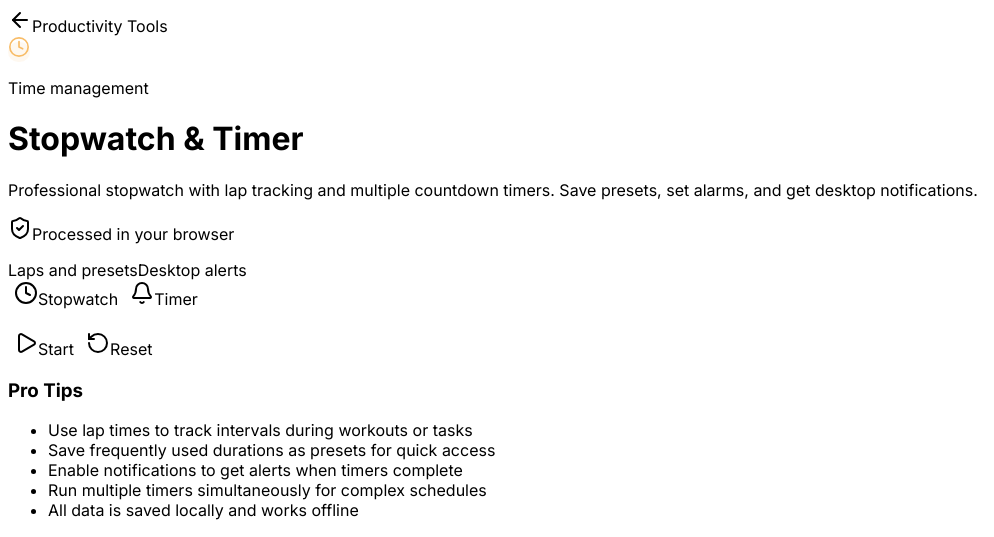
Scenario: StopwatchTimerPage › Stopwatch Mode › Controls › changes Pause back to Start when clicked
Click the button "Start".
click(44, 345)  # box [8, 330, 80, 360]
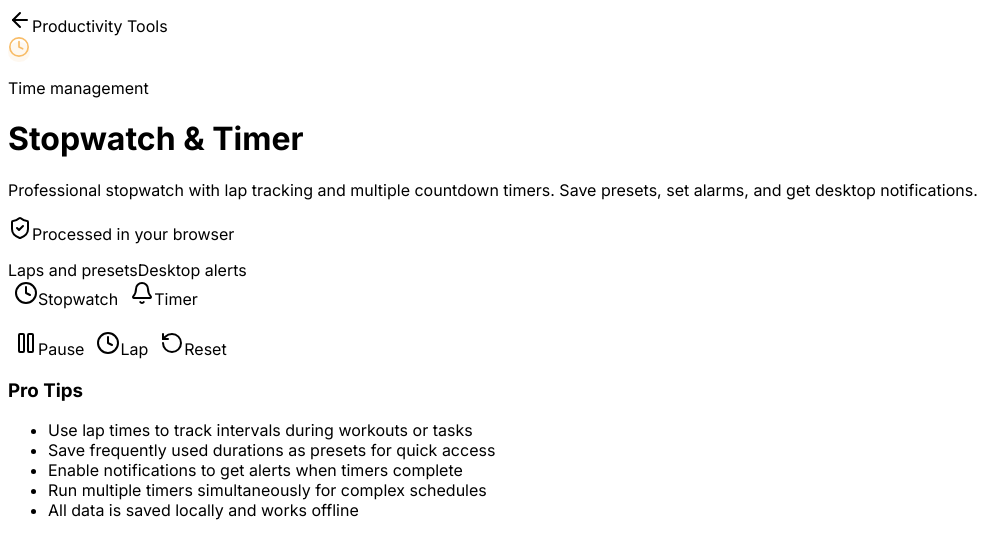
Result: the button "Pause" is shown
Click the button "Pause".
click(49, 345)  # box [8, 330, 90, 360]
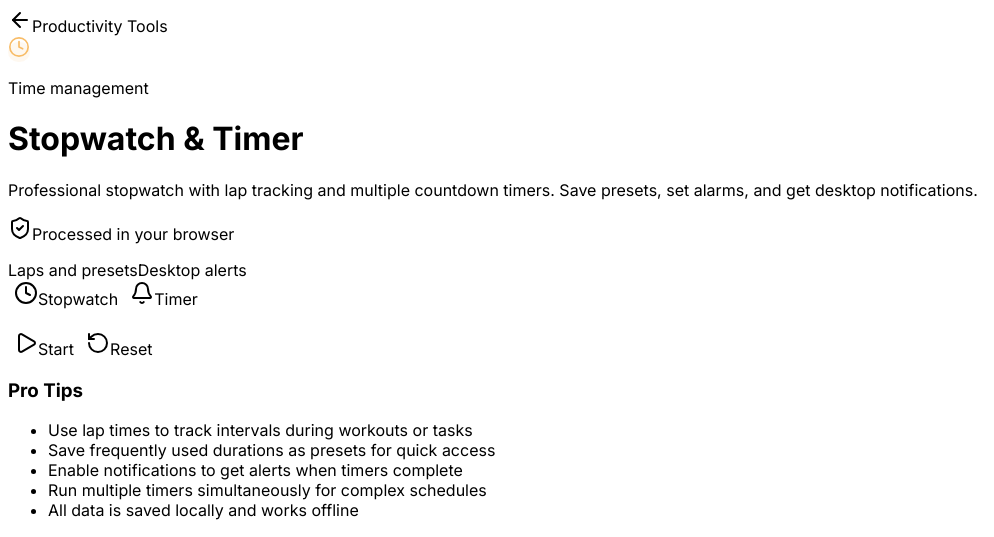
Result: the button "Start" is shown at [8, 330, 80, 360]
